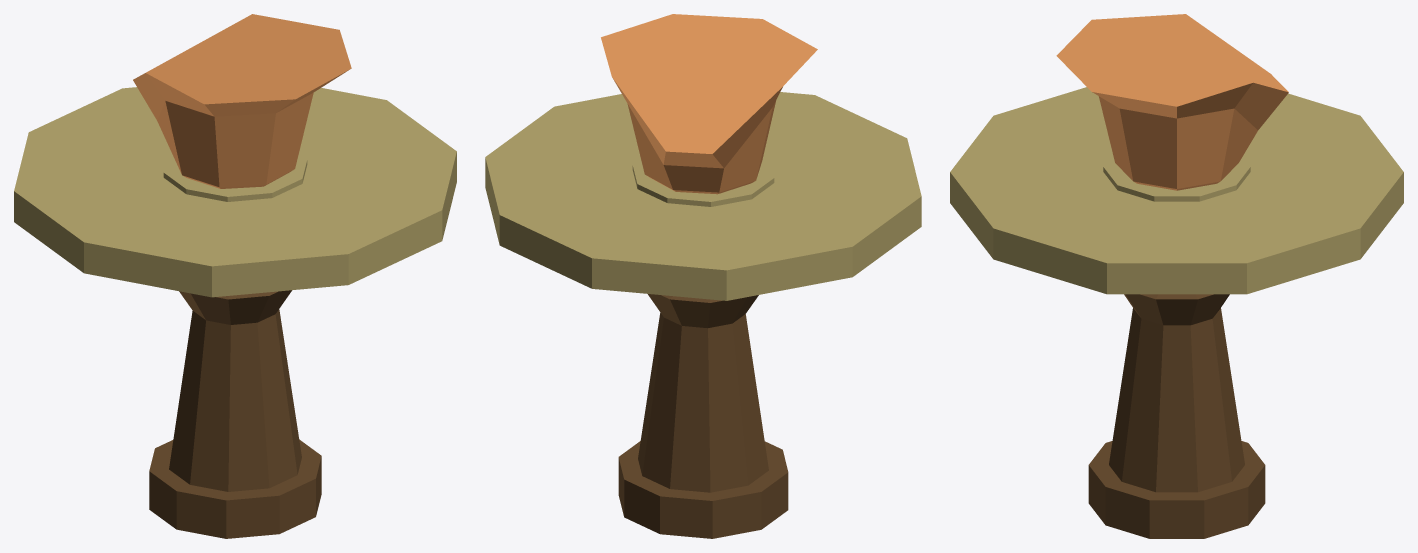
File: PotteryWheel02.fbx
The picture shows the model from 3 angles, left to right: view 1: azimuth 30°, elevation 25°; view 2: azimuth 150°, elevation 25°; view 3: azimuth 270°, elevation 25°; orthographic projection.
Parts seen in each view (by area): view 1: PotteryWheel02; view 2: PotteryWheel02; view 3: PotteryWheel02.
Boxes of the visible parts, x1,y1,x2,y2 form: PotteryWheel02: (14,14,456,538); PotteryWheel02: (485,14,921,538); PotteryWheel02: (950,14,1403,538).
Bounding box in the file's own units: 358 × 409 × 376.
